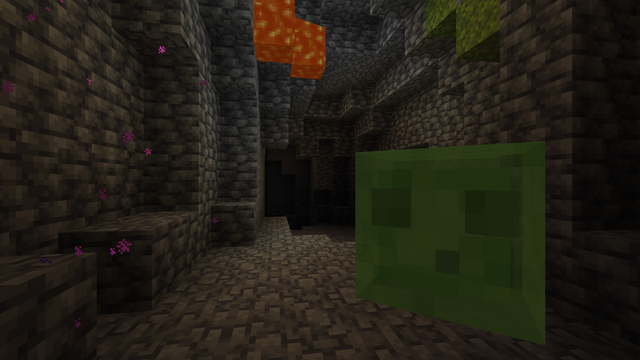slimes: (355, 135, 578, 334)
